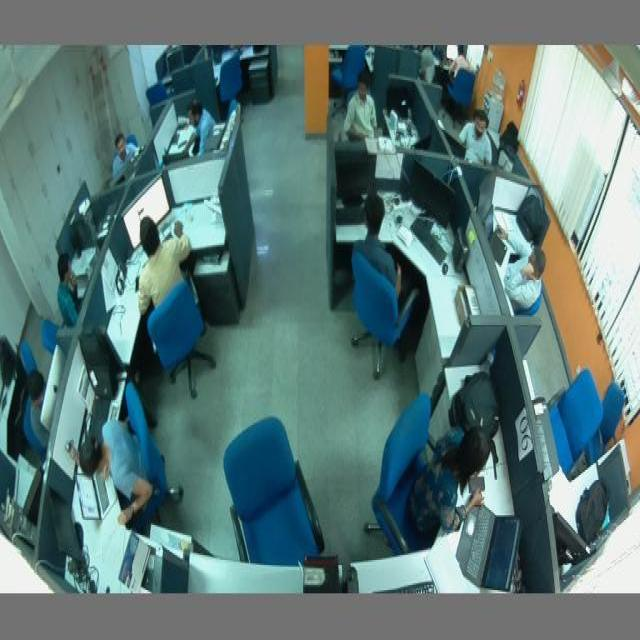chair: (224, 414, 328, 573), (364, 392, 440, 550), (350, 252, 417, 375), (150, 284, 214, 396), (548, 369, 604, 468), (604, 381, 630, 454), (333, 46, 370, 96), (448, 69, 478, 118), (220, 56, 243, 96), (42, 317, 62, 351), (520, 295, 546, 317), (146, 83, 167, 104)
keyboard: (411, 217, 448, 265), (332, 205, 375, 227), (371, 581, 436, 594)
laptop: (456, 499, 523, 594), (74, 456, 114, 526)
monitor: (406, 162, 456, 235), (128, 173, 174, 249), (556, 509, 591, 569), (335, 152, 379, 196), (477, 177, 499, 220)
person: (408, 427, 488, 533), (80, 415, 154, 527), (352, 193, 408, 300), (136, 215, 192, 317), (498, 224, 546, 308), (26, 368, 59, 455), (56, 250, 88, 325), (456, 110, 494, 173), (344, 75, 379, 140), (182, 100, 222, 155), (110, 130, 142, 178)
phone: (469, 475, 490, 495)
